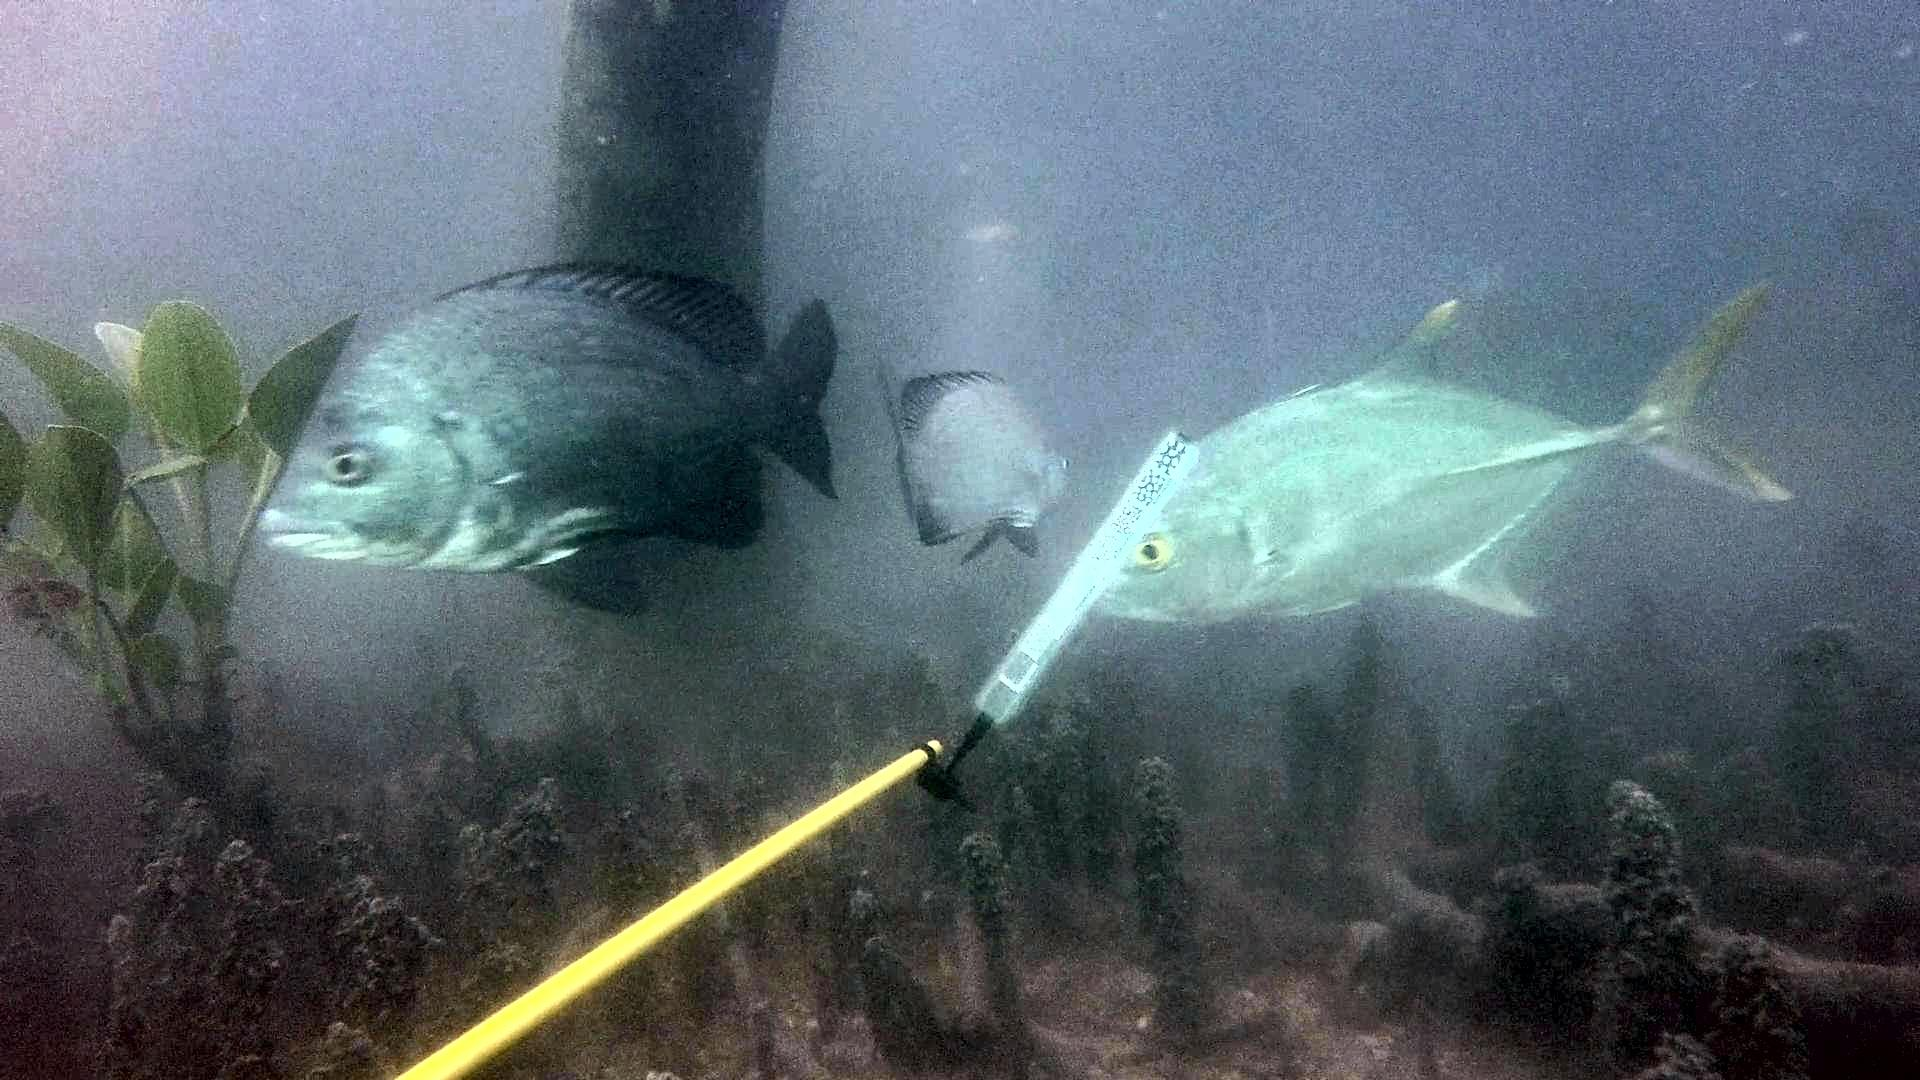acanthopagrus palmaris: (253, 251, 857, 629), (868, 345, 1076, 575)
caranx: (1058, 258, 1807, 647)
